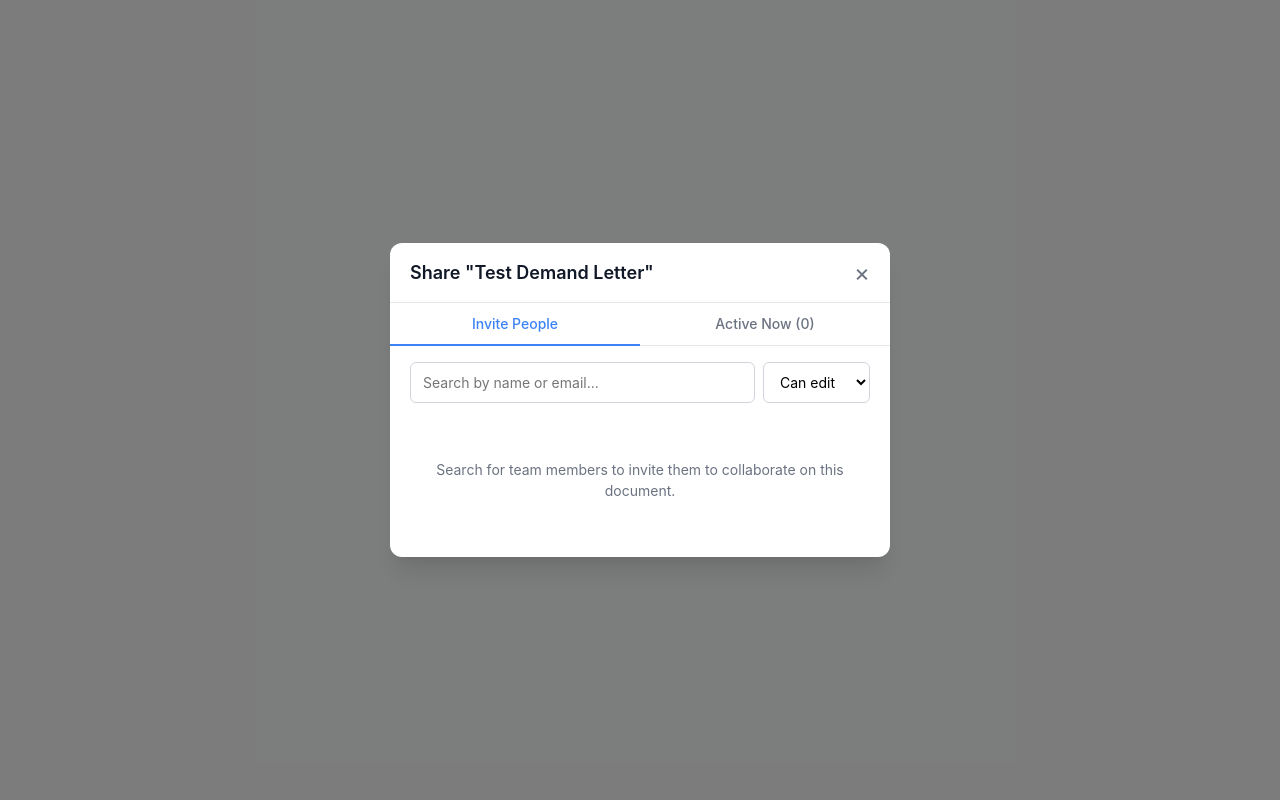
ShareDialog › Tabs › should switch between tabs
Note: Click on Active Now tab
Click the button "Active Now (0)" at coordinates (765, 324), box [640,303,890,346]
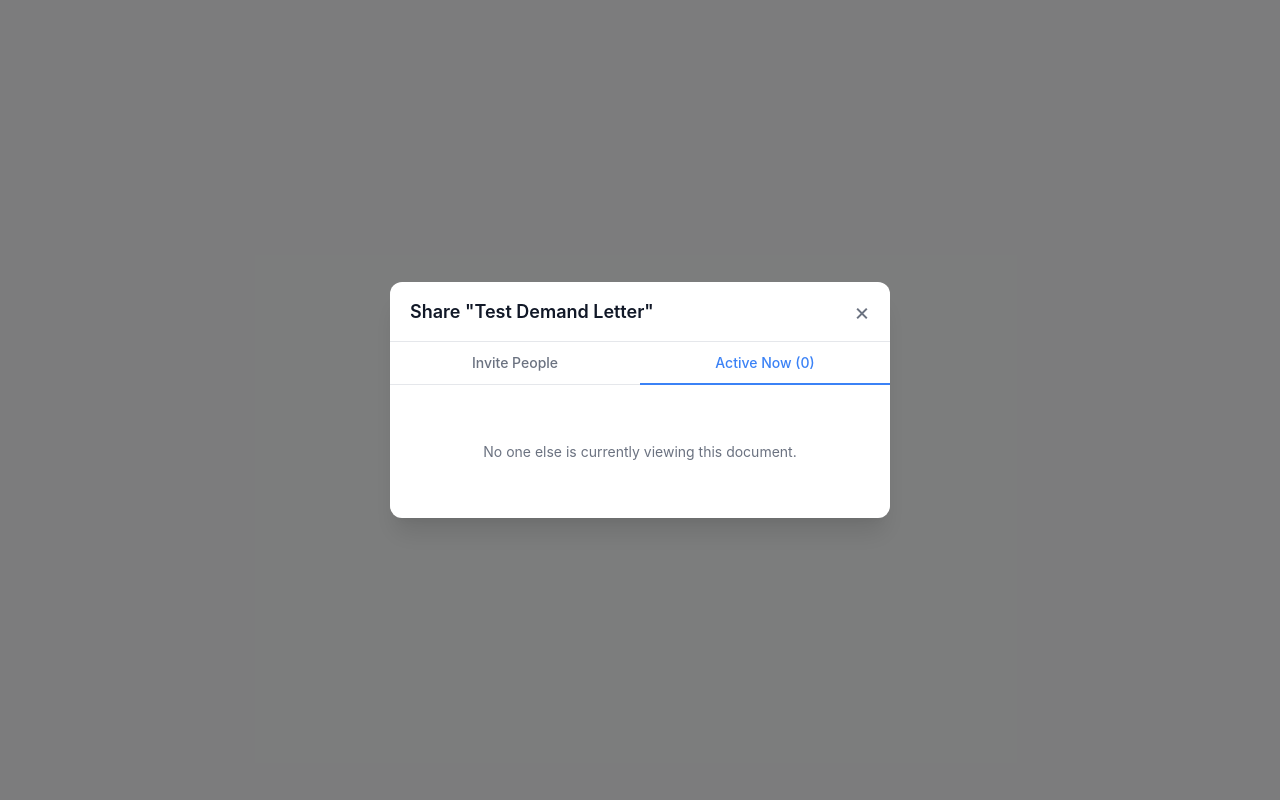
Now the text "No one else is currently viewing this document." is shown, box [483,443,797,460]
